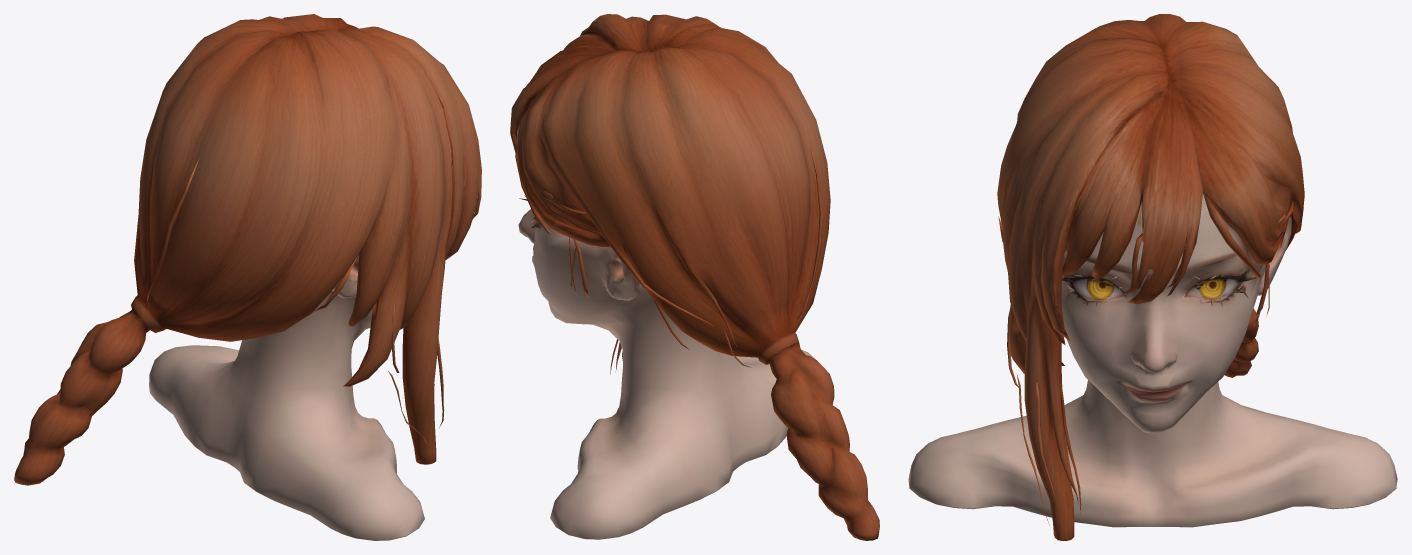
File: source.glb
3 views of the same model, side by side, from view 1: azimuth 30°, elevation 25°; view 2: azimuth 150°, elevation 25°; view 3: azimuth 270°, elevation 25° (orthographic). The views are drawn at different scales.
Parts seen in each view (by area): view 1: tripo_node_65a88a93-3494-4328-99c5-3bc882aedd01; view 2: tripo_node_65a88a93-3494-4328-99c5-3bc882aedd01; view 3: tripo_node_65a88a93-3494-4328-99c5-3bc882aedd01.
Boxes of the visible parts, box(x1,y1,x2,y2) form: tripo_node_65a88a93-3494-4328-99c5-3bc882aedd01: box(14, 14, 481, 540); tripo_node_65a88a93-3494-4328-99c5-3bc882aedd01: box(510, 14, 879, 540); tripo_node_65a88a93-3494-4328-99c5-3bc882aedd01: box(908, 14, 1397, 540).
Size of the model in its own units: 0.9941 by 1 by 0.9804.
1 material, 1 textured.
